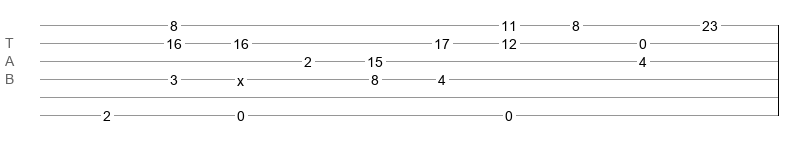0: (237, 108, 245, 118), (505, 108, 513, 118), (639, 36, 647, 46)
11: (501, 18, 517, 28)
12: (501, 36, 517, 46)
15: (367, 54, 383, 64)
16: (166, 36, 182, 46), (233, 36, 249, 46)
17: (434, 36, 450, 46)
2: (103, 108, 111, 118), (304, 54, 312, 64)
23: (702, 18, 718, 28)
3: (170, 72, 178, 82)
4: (438, 72, 446, 82), (639, 54, 647, 64)
8: (170, 18, 178, 28), (371, 72, 379, 82), (572, 18, 580, 28)
x: (237, 73, 244, 81)
